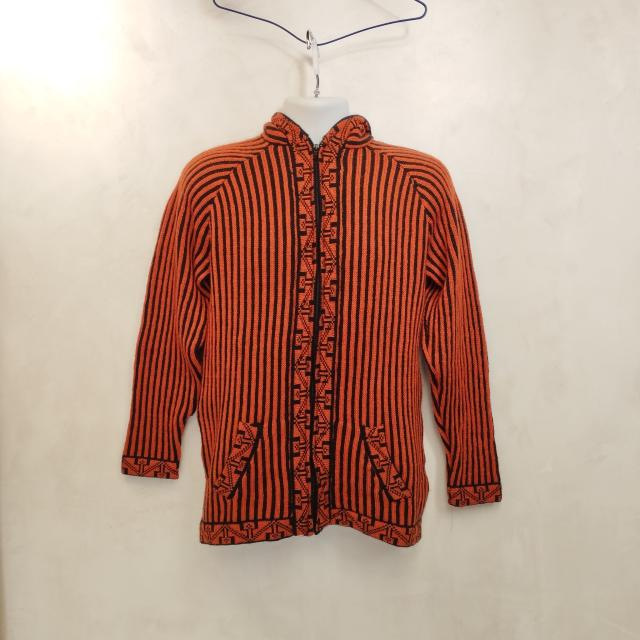Chompa: (120, 104, 502, 548)
